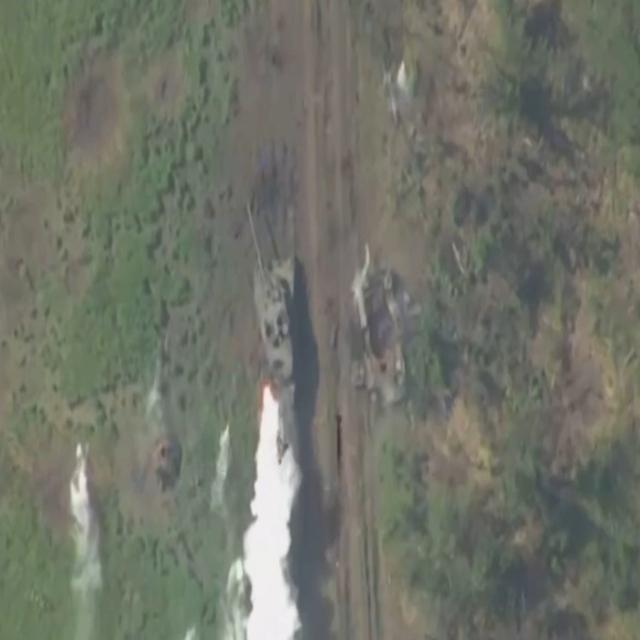AIFV: (358, 261, 408, 412)
MBT: (248, 199, 302, 411)
